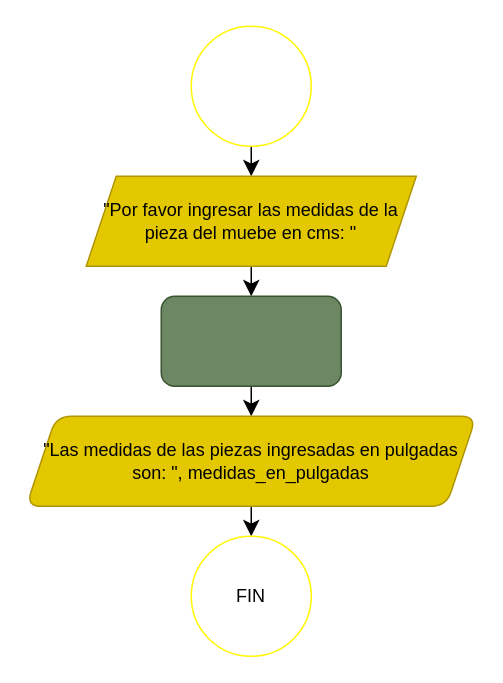
Image size: 503x683. Some labels were removed from this diagram. Here are the shapes that lost their labels. From the top down, the box of each, then its label:
(190, 25, 311, 146): INICIO
(160, 295, 341, 386): Convertir medidas en pulgadas = cm / 2.54
